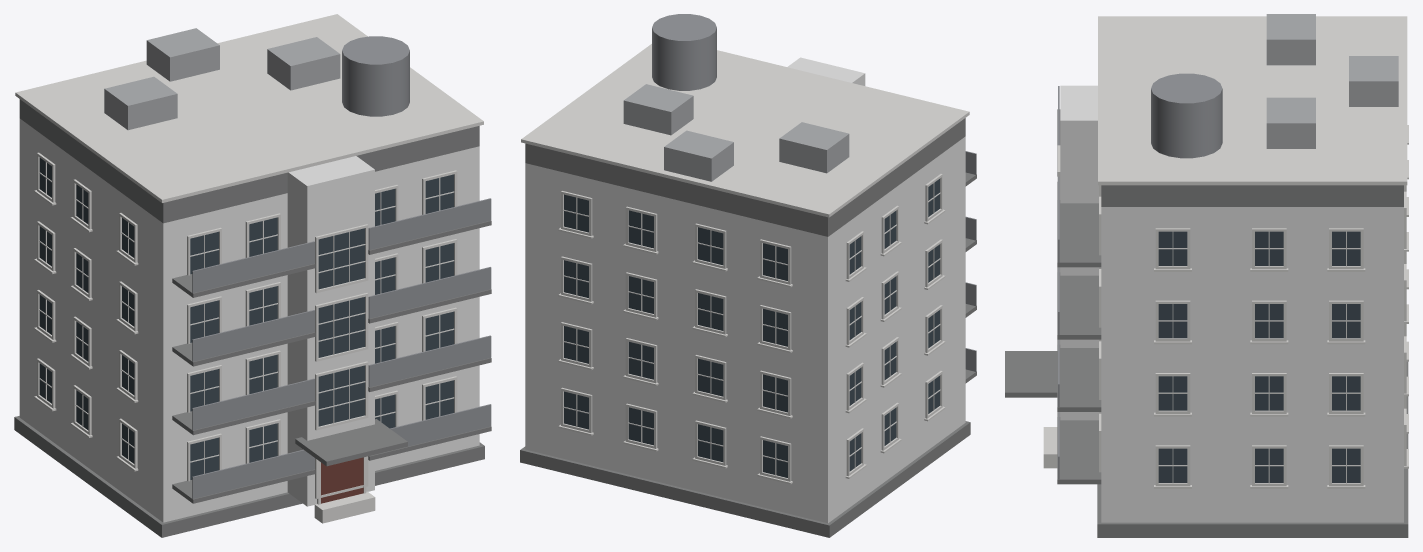
File: city_apartment.fbx
The picture shows the model from 3 angles, left to right: view 1: azimuth 30°, elevation 25°; view 2: azimuth 150°, elevation 25°; view 3: azimuth 270°, elevation 25°; orthographic projection. The views are drawn at different scales.
Visible parts, largest first — view 1: render2_1, trim_1, steel_1, glass_1, concrete_1, galv_1, door_1; view 2: render2_1, trim_1, glass_1, concrete_1, galv_1, steel_1; view 3: render2_1, trim_1, concrete_1, glass_1, galv_1, steel_1.
Boxes of the visible parts, x1,y1,x2,y2 form: render2_1: [19, 118, 479, 522]; trim_1: [15, 14, 483, 523]; steel_1: [192, 36, 491, 498]; glass_1: [39, 158, 453, 479]; concrete_1: [14, 99, 491, 537]; galv_1: [104, 28, 340, 130]; door_1: [321, 457, 363, 503]; render2_1: [525, 57, 965, 523]; trim_1: [521, 44, 969, 484]; glass_1: [564, 179, 939, 477]; concrete_1: [520, 118, 976, 537]; galv_1: [623, 84, 849, 181]; steel_1: [652, 14, 976, 371]; render2_1: [1060, 85, 1403, 522]; trim_1: [1043, 16, 1408, 488]; concrete_1: [1005, 109, 1408, 537]; glass_1: [1158, 231, 1360, 482]; galv_1: [1266, 14, 1398, 148]; steel_1: [1058, 73, 1222, 479].
Size of the model in its own units: 1.43 by 1.66 by 1.47.
